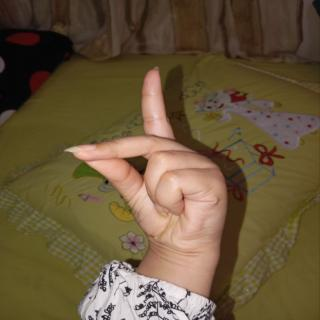TAA: (62, 59, 241, 259)
